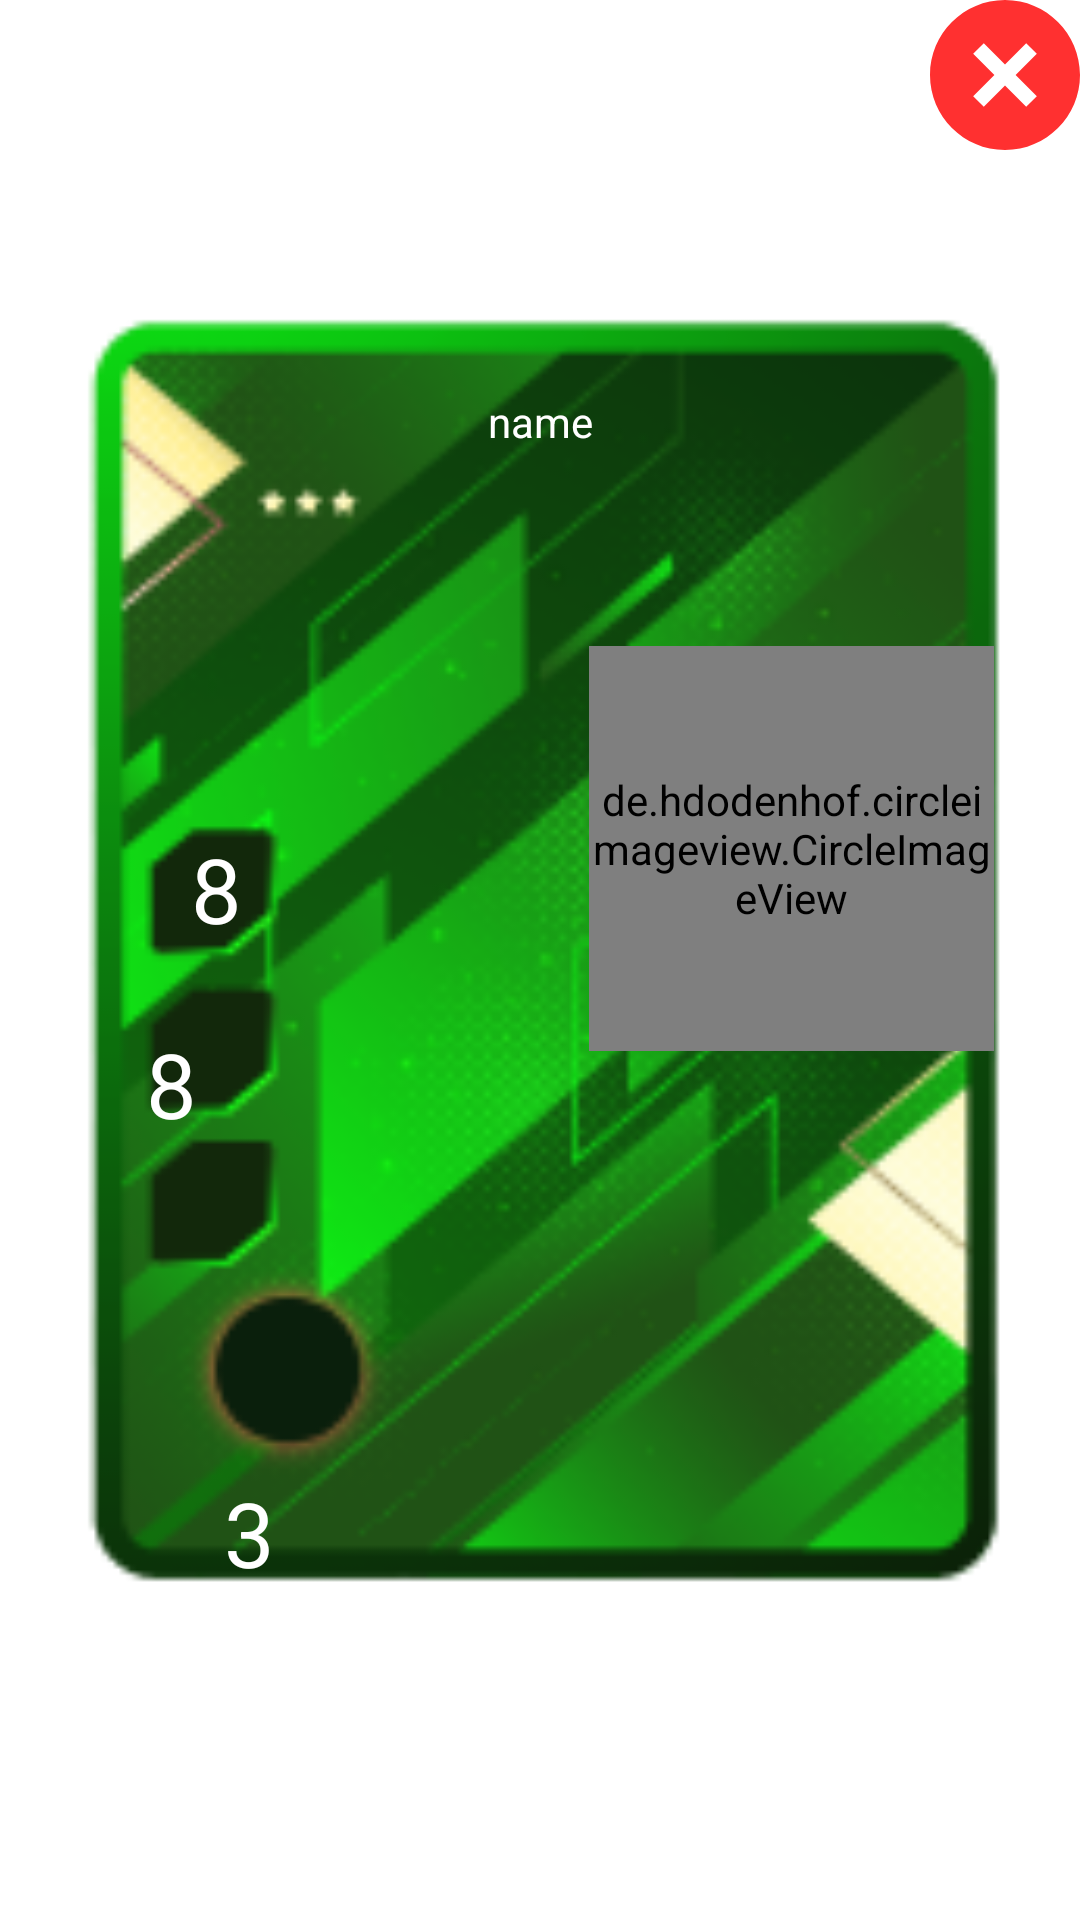

Icon bounding boxes for this 1080px x 1920px phone screenshot, format bbox=(x1, y1, x2, y2):
close: bbox=(930, 0, 1080, 150)
